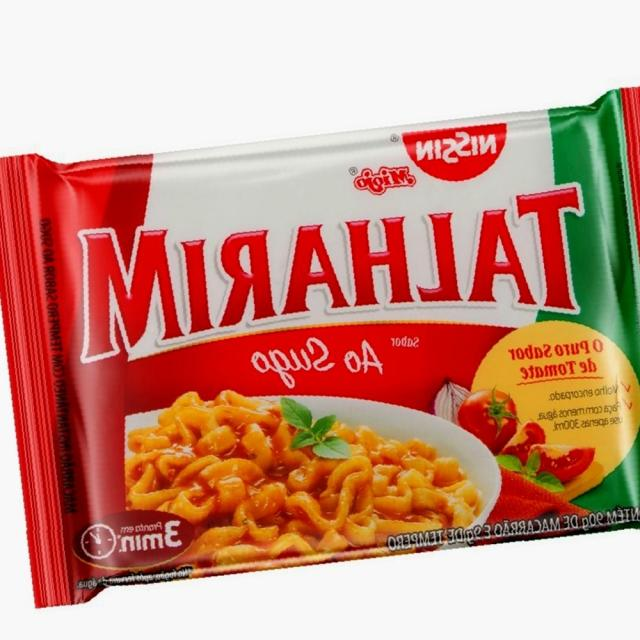pasta package: (0, 89, 639, 606)
